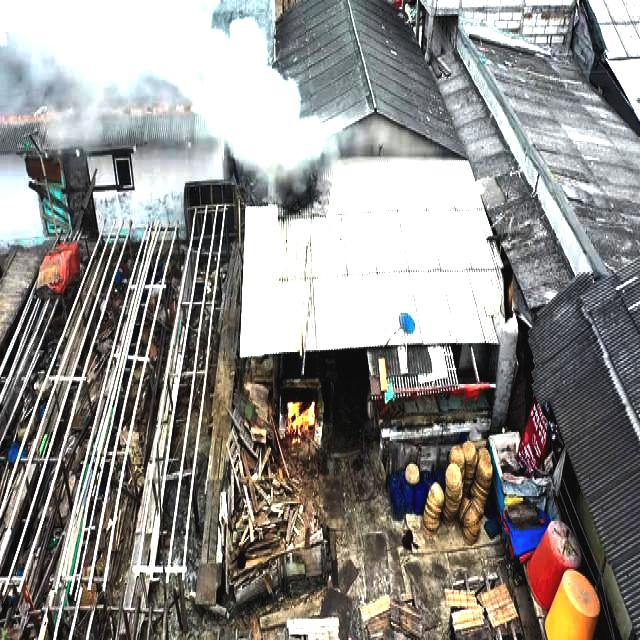smoke: (133, 0, 235, 132), (0, 0, 76, 158), (70, 0, 131, 144), (232, 22, 286, 171), (280, 77, 326, 196)
